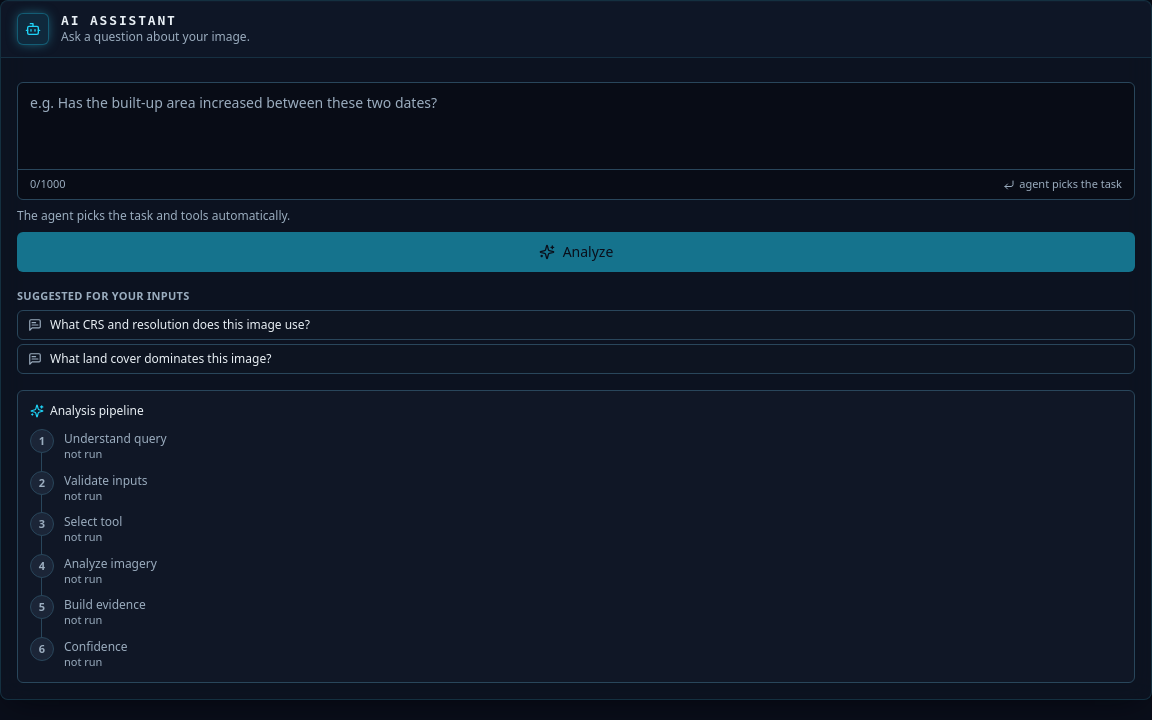
it: AssistantPanel › fills the query box from an example question
Click the button "What CRS and resolution does this image use?". click: (180, 325)
box: [17,310,1135,340]
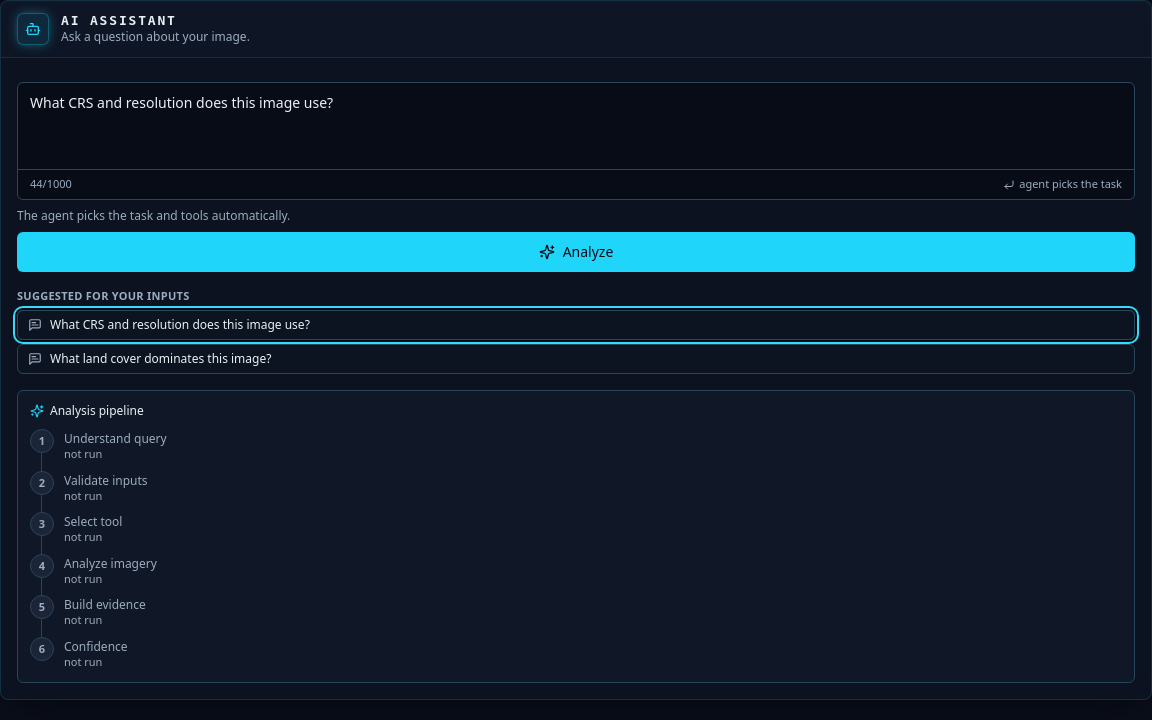
Expected: the text box named "Your question" holds "What CRS and resolution does this image use?", [18,83,1134,163]
